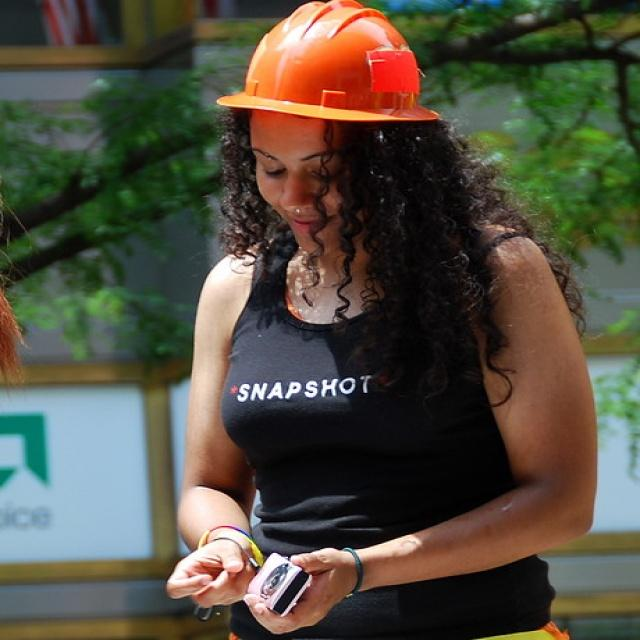helmet: (203, 3, 441, 169)
